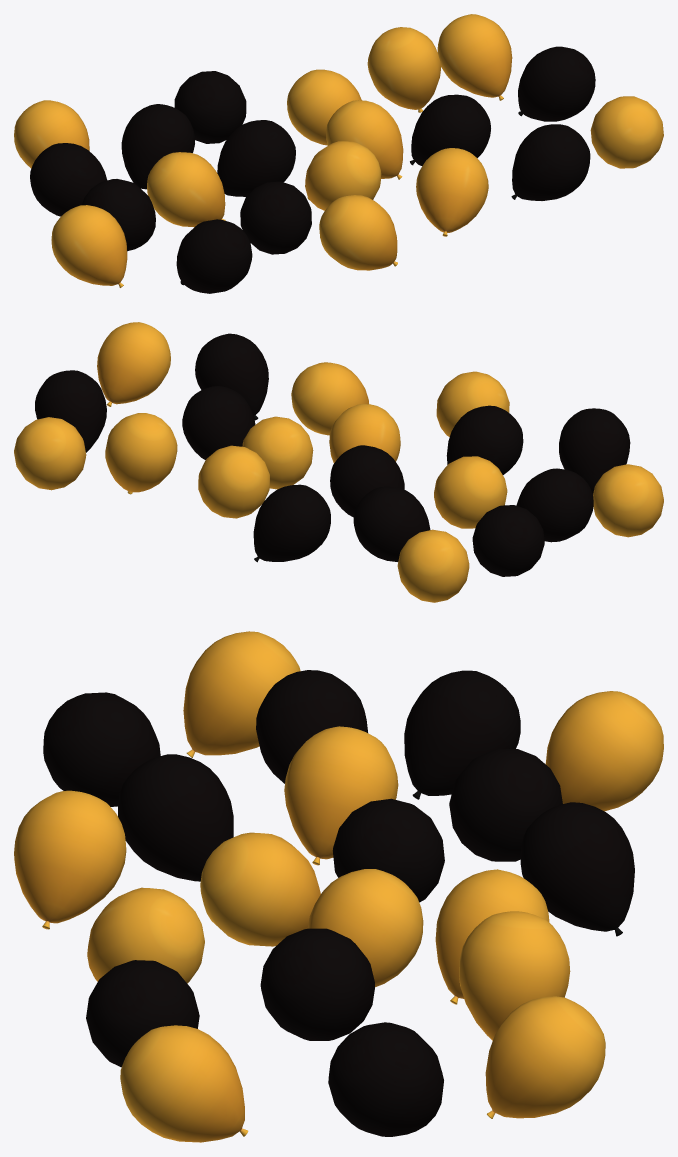
Rendered from PartyBalloons03_GR9_2.FBX.
The picture shows the model from 3 angles, top to bottom: view 1: azimuth 30°, elevation 25°; view 2: azimuth 150°, elevation 25°; view 3: azimuth 270°, elevation 25°; orthographic projection. The views are drawn at different scales.
Parts seen in each view (by area): view 1: PartyBalloons03_GR9_2; view 2: PartyBalloons03_GR9_2; view 3: PartyBalloons03_GR9_2.
Part boxes in pixels (box(x1,y1,x2,y2)): PartyBalloons03_GR9_2: box(14, 14, 663, 293); PartyBalloons03_GR9_2: box(14, 322, 663, 602); PartyBalloons03_GR9_2: box(14, 631, 663, 1142).
Size of what is drawn, in the model's own units: 3.28 by 0.4719 by 2.05.
